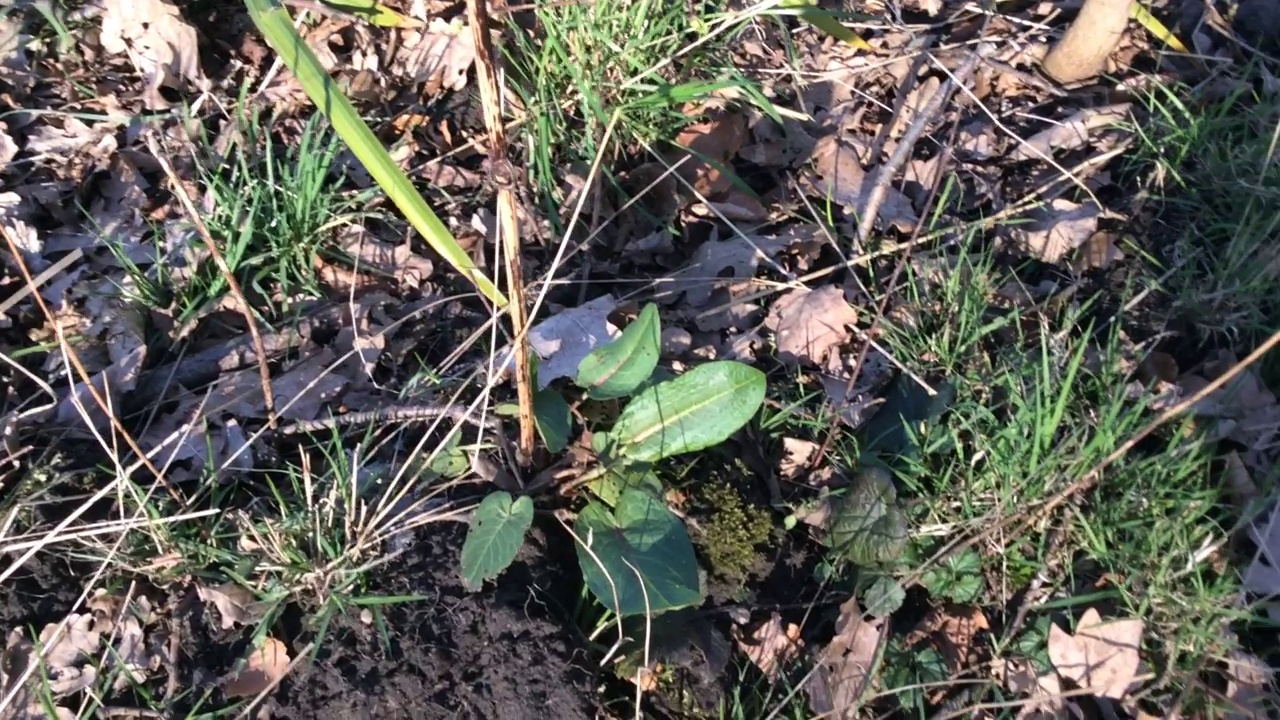rumex: (428, 303, 768, 612)
